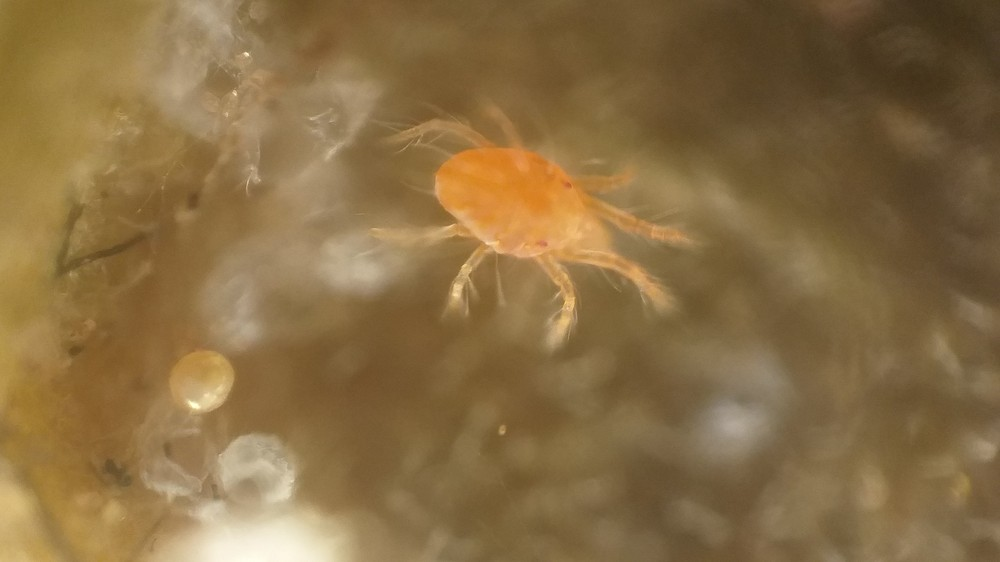Aracnido Rojo: (368, 81, 716, 362)
